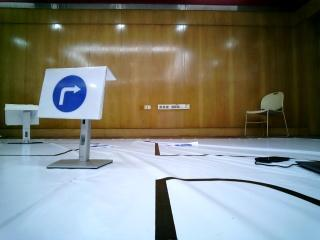right: (45, 67, 101, 119)
